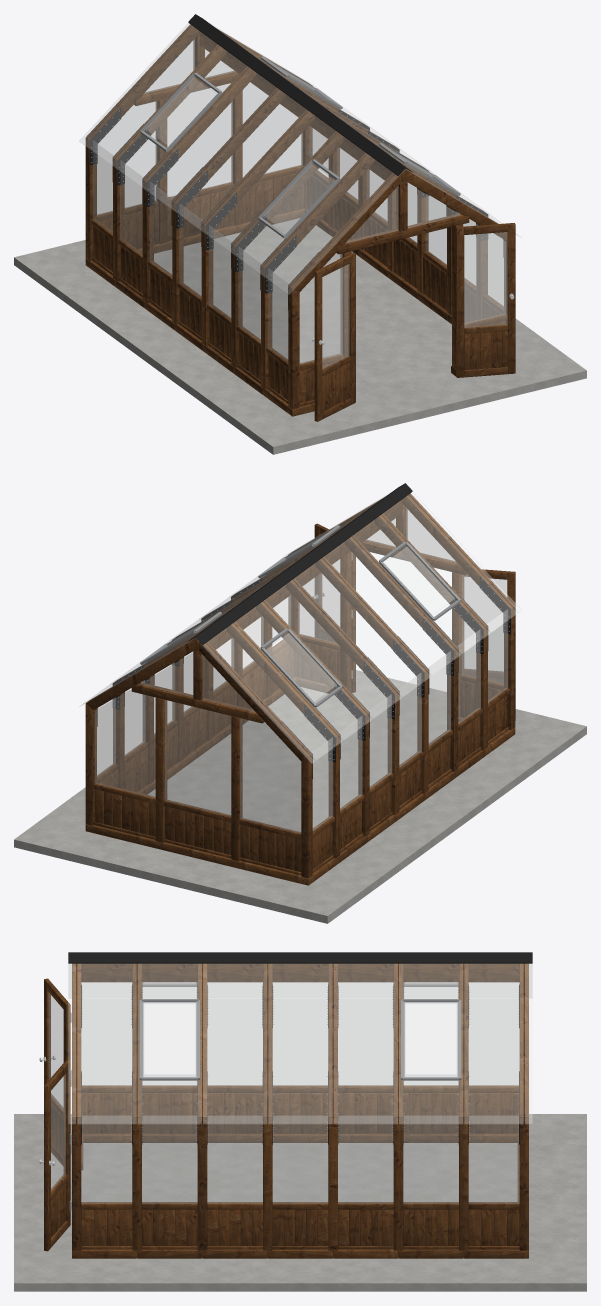
File: nordwood-classic-sv.glb
3 renders of one model, top to bottom at view 1: azimuth 30°, elevation 25°; view 2: azimuth 150°, elevation 25°; view 3: azimuth 270°, elevation 25°, orthographic. The views are drawn at different scales.
Visible parts, largest first — view 1: nordwood-classic; view 2: nordwood-classic; view 3: nordwood-classic.
Boxes of the visible parts, x1=… form: nordwood-classic: x1=14, y1=14, x2=586, y2=454; nordwood-classic: x1=14, y1=483, x2=586, y2=923; nordwood-classic: x1=14, y1=952, x2=586, y2=1291.
Size of the model in its own units: 4.22 by 2.97 by 6.04.
Materials: 9 (4 with a texture image).
